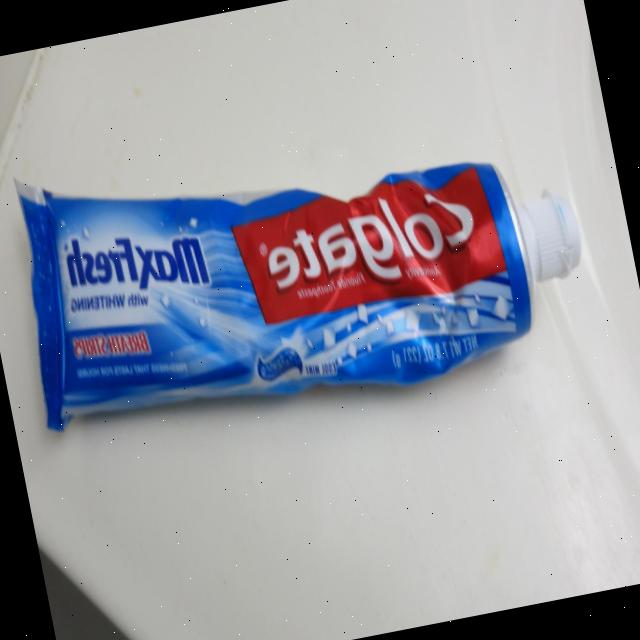Toothpaste: (0, 69, 607, 448)
